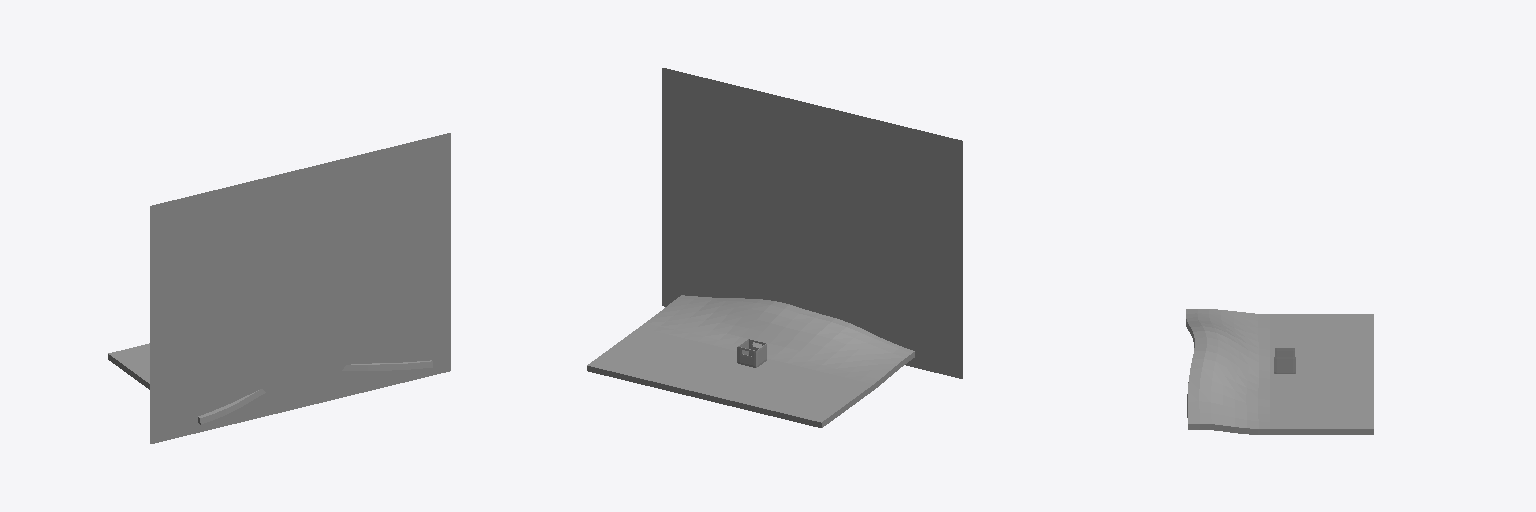
File: Basket.obj
3 renders of one model, left to right at view 1: azimuth 30°, elevation 25°; view 2: azimuth 150°, elevation 25°; view 3: azimuth 270°, elevation 25°, orthographic.
Visible parts, largest first — view 1: Plane.001, Plane; view 2: Plane.001, Plane, Cube; view 3: Plane, Cube.
Part boxes in pixels (x1,y1,x2,y2): Plane.001: (150, 133, 450, 443); Plane: (108, 343, 432, 424); Plane.001: (662, 68, 962, 378); Plane: (587, 295, 914, 427); Cube: (737, 339, 766, 367); Plane: (1186, 309, 1373, 434); Cube: (1274, 348, 1295, 373).
Size of the model in its own units: 122 by 92.39 by 66.31.